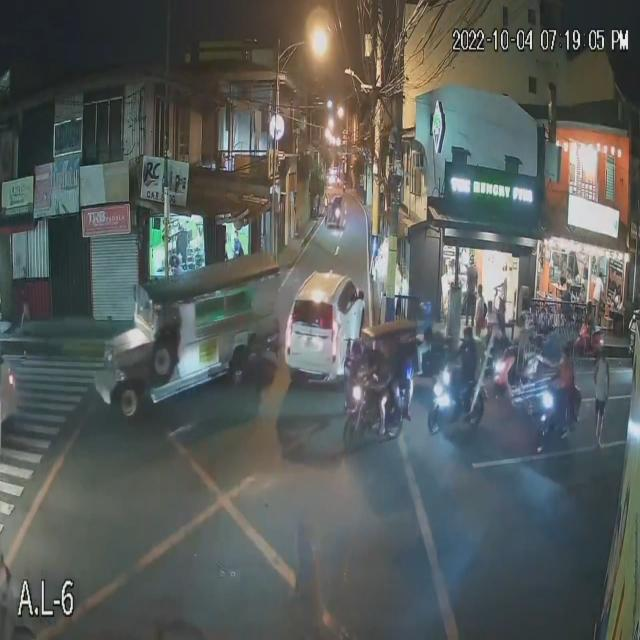Full-Faced: (458, 325, 474, 350), (561, 341, 575, 365)
